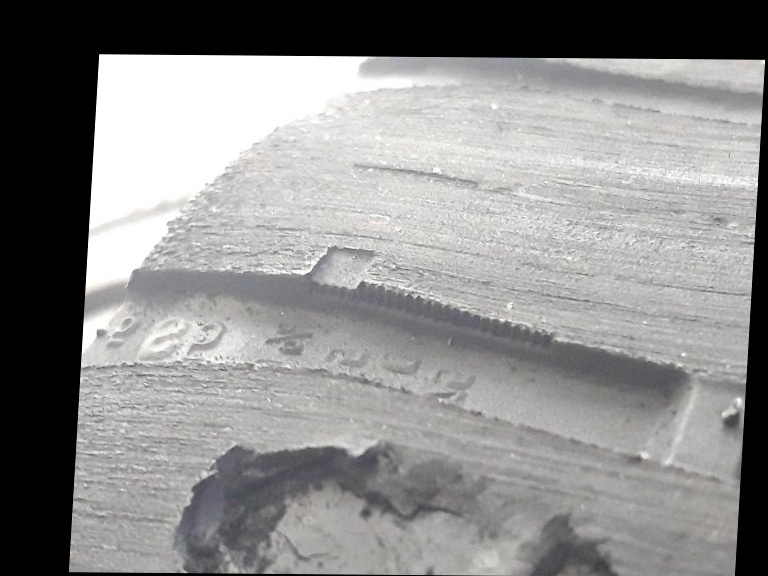temoin:0: (296, 239, 406, 328)
